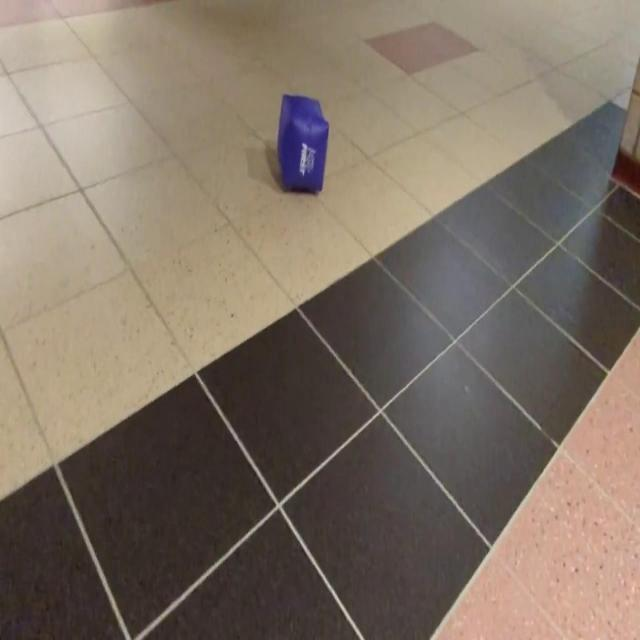frc_cube: (276, 92, 330, 188)
